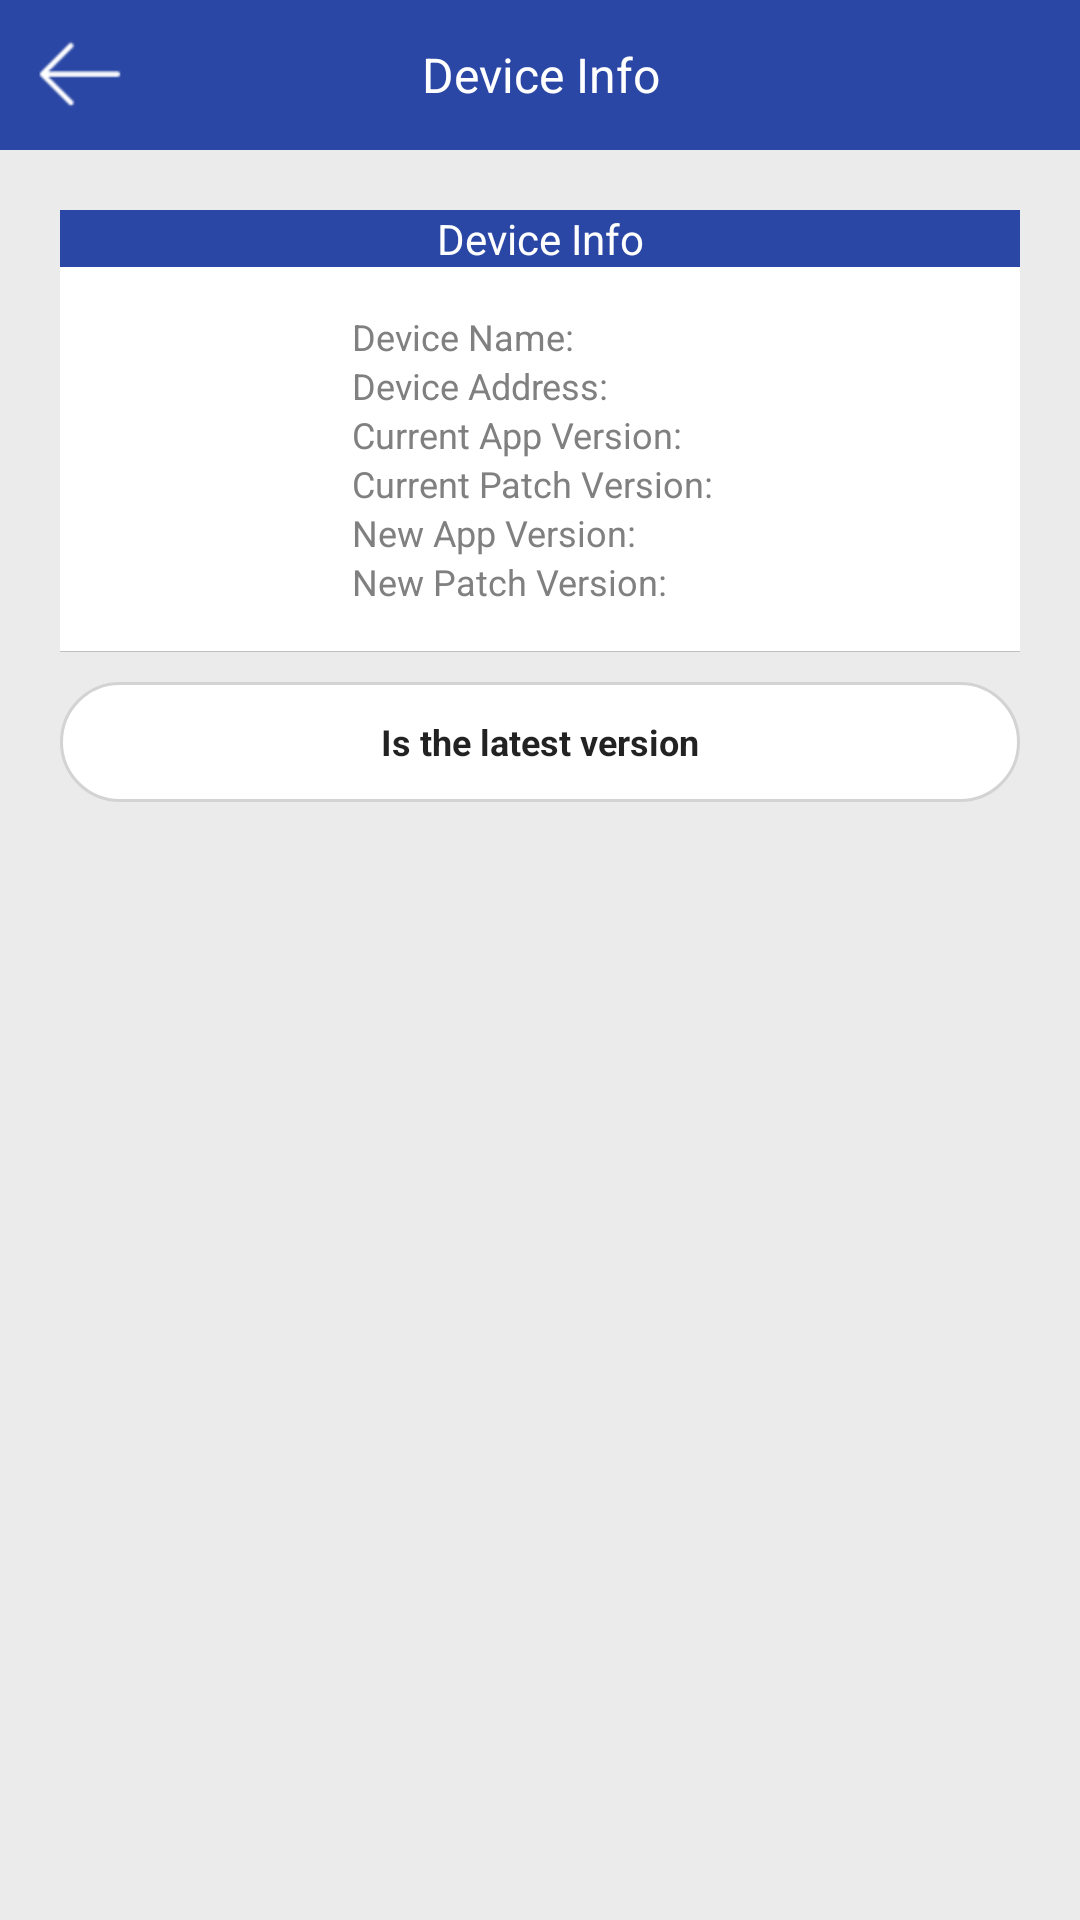

Screen size 1080×1920. Icon name, then its center in pixels as (x=x, y=y):
back: (x=80, y=74)
